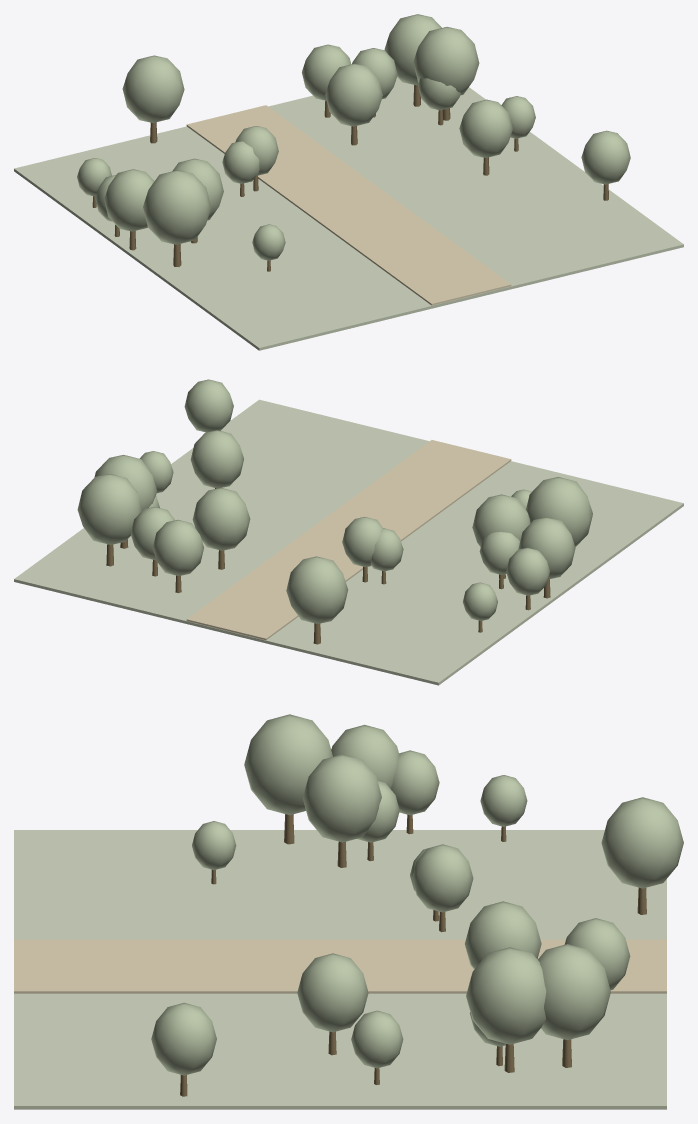
3 views of the same model, one above another, from view 1: azimuth 30°, elevation 25°; view 2: azimuth 150°, elevation 25°; view 3: azimuth 270°, elevation 25° (orthographic). The views are drawn at different scales.
Visible parts, largest first — view 1: terrain, object 2, lod-near-28, lod-near-0, lod-near-24, lod-near-19, lod-near-15, lod-near-29, lod-near-17, lod-near-3, lod-near-2, lod-near-30 (+7 smaller); view 2: terrain, object 2, lod-near-3, lod-near-0, lod-near-19, lod-near-28, lod-near-15, lod-near-2, lod-near-29, lod-near-17, lod-near-25, lod-near-10 (+7 smaller); view 3: terrain, object 2, lod-near-24, lod-near-28, lod-near-0, lod-near-3, lod-near-25, lod-near-15, lod-near-17, lod-near-19, lod-near-13, lod-near-2 (+6 smaller).
Boxes of the visible parts, x1,y1,x2,y2 form: terrain: (14, 77, 683, 350); object 2: (186, 105, 511, 305); lod-near-28: (143, 170, 211, 244); lod-near-0: (122, 55, 184, 122); lod-near-24: (413, 27, 479, 95); lod-near-19: (325, 63, 382, 126); lod-near-15: (459, 99, 512, 157); lod-near-29: (104, 169, 154, 231); lod-near-17: (581, 130, 630, 184); lod-near-3: (384, 14, 441, 85); lod-near-2: (302, 44, 350, 100); lod-near-30: (222, 141, 259, 183); terrain: (14, 399, 683, 685); object 2: (186, 440, 511, 640); lod-near-3: (77, 474, 142, 544); lod-near-0: (286, 556, 348, 623); lod-near-19: (192, 488, 250, 550); lod-near-28: (526, 477, 592, 546); lod-near-15: (190, 430, 243, 488); lod-near-2: (152, 520, 204, 575); lod-near-29: (518, 517, 575, 579); lod-near-17: (184, 379, 233, 432); lod-near-25: (472, 494, 530, 546); lod-near-10: (506, 547, 550, 595); terrain: (14, 830, 666, 1109); object 2: (14, 939, 666, 993); lod-near-24: (466, 947, 546, 1044); lod-near-28: (244, 714, 332, 815); lod-near-0: (601, 797, 683, 888); lod-near-3: (538, 944, 610, 1040); lod-near-25: (302, 754, 381, 842); lod-near-15: (297, 953, 368, 1032); lod-near-17: (151, 1002, 216, 1075); lod-near-19: (465, 901, 541, 969); lod-near-13: (412, 844, 473, 912); lod-near-2: (564, 918, 630, 989).
Bounding box in the file's own units: 34.04 × 7.06 × 32.84.
